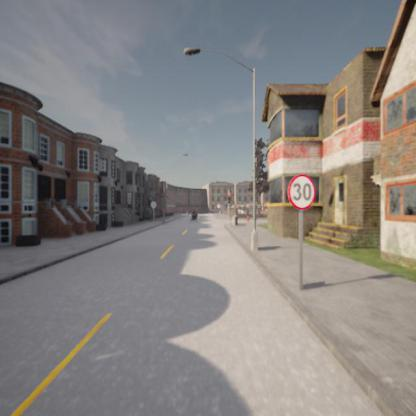traffic_sign_30: (288, 172, 316, 210)
